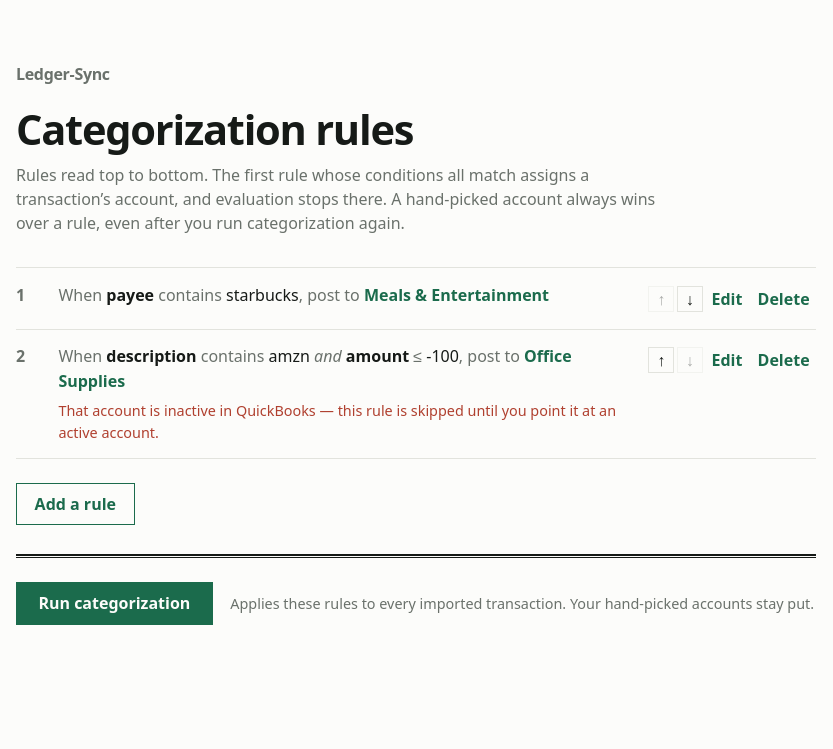
Test: surfaces a validation error from the server without closing the form
expect the list is shown: met, box x1=16 y1=267 x2=816 y2=459
Click the button "Add a rule": (75, 504) x1=16 y1=483 x2=135 y2=525
(page scrolled)
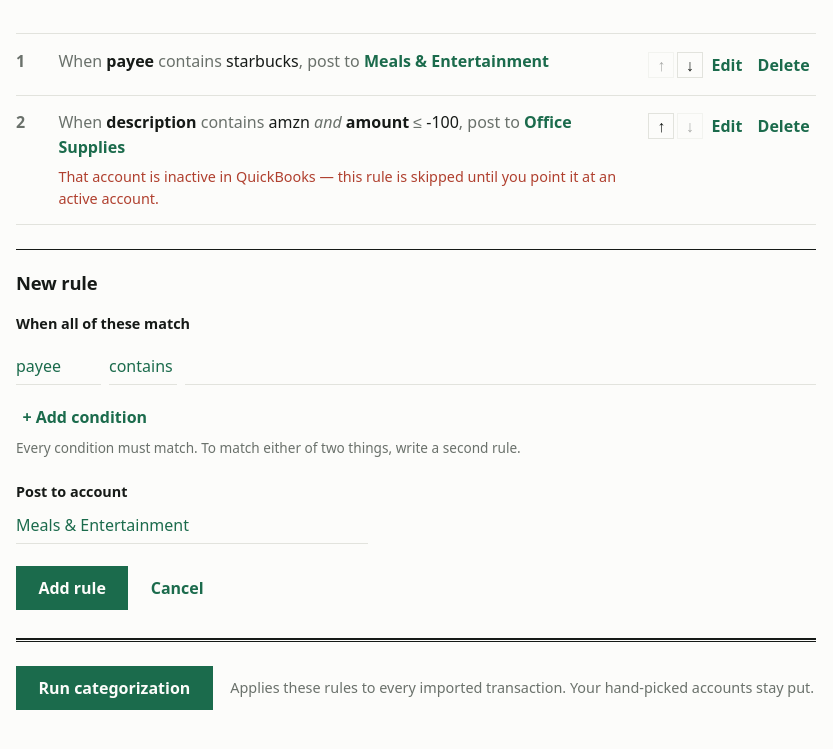
Click the button "Add rule": (72, 588) x1=16 y1=566 x2=128 y2=610
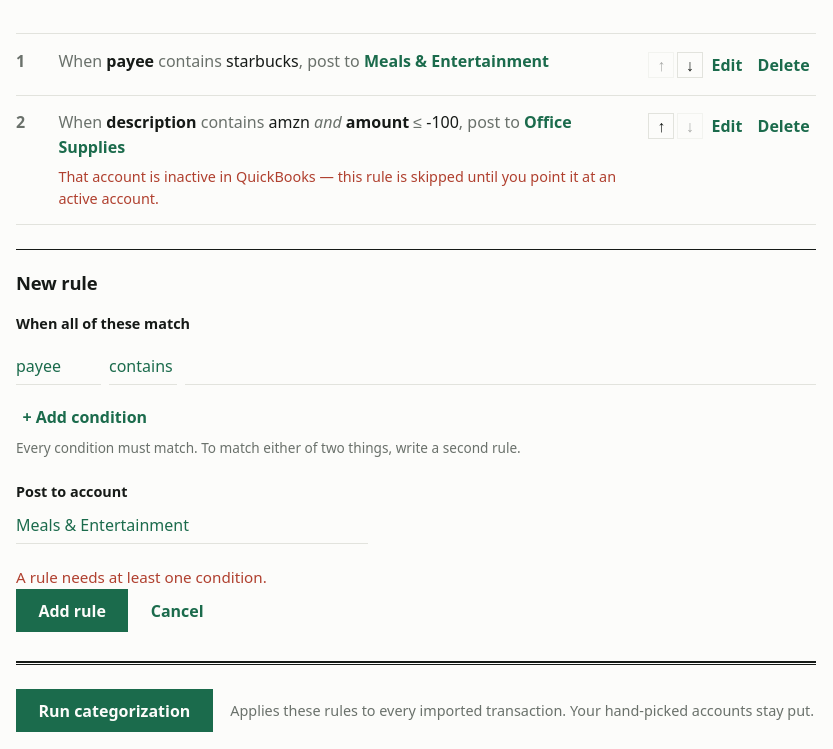
expect the button "Add rule" is shown: met, box x1=16 y1=589 x2=128 y2=632
expect the text "A rule needs at least one condition." is shown: met, box x1=16 y1=567 x2=267 y2=587
